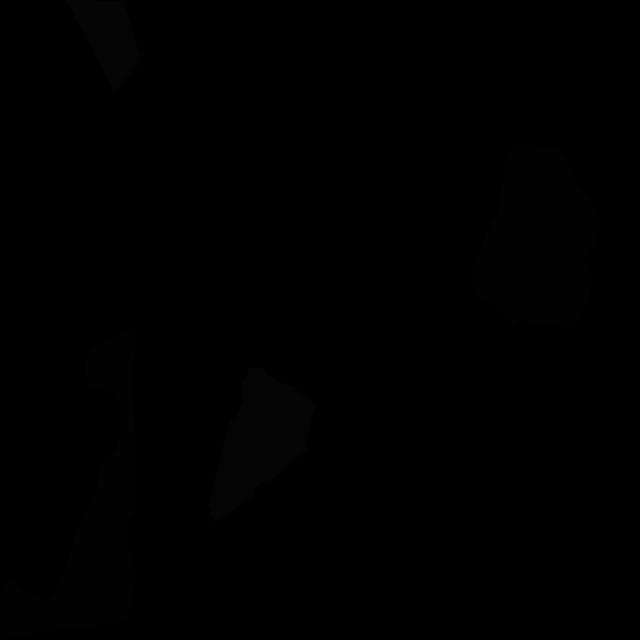cardboard: (0, 330, 138, 639), (471, 142, 603, 330)
soft_plastic: (208, 367, 316, 524), (66, 0, 142, 93)
